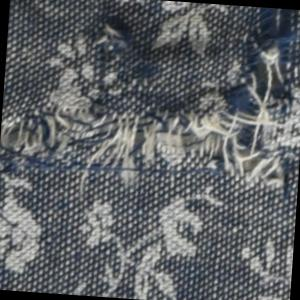Damage: (1, 1, 300, 208)
